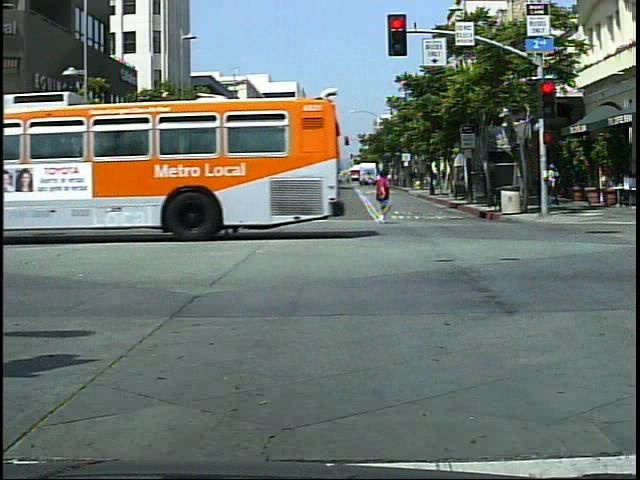person: (260, 165, 291, 229), (154, 169, 183, 235), (373, 168, 395, 227), (547, 161, 564, 210)
